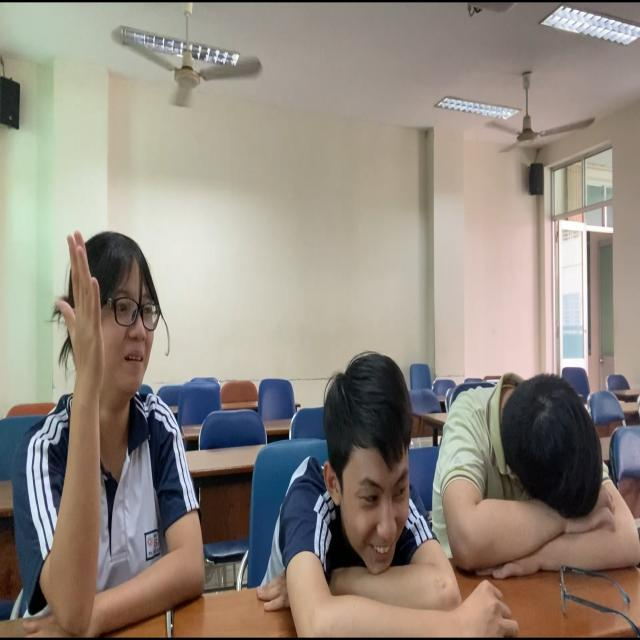raise_hand: (2, 190, 237, 640)
sleep: (421, 357, 640, 584)
